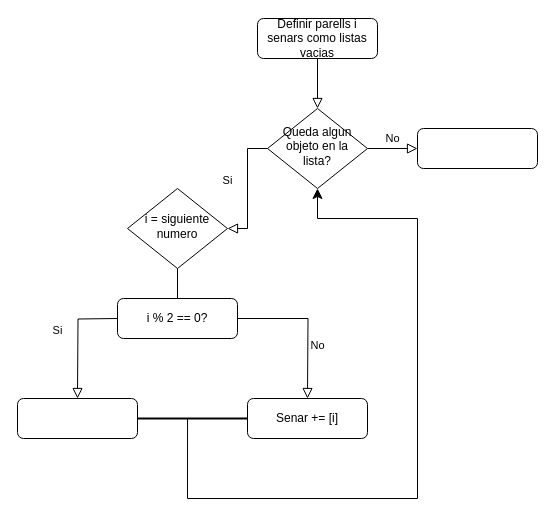
The diagram is 555 pixels wide and 526 high, and some of its shapes have lost their labels. The box of each missing label's shape, as (x1, y1, x2, y2) in pixels:
Parell += [i]: (16, 398, 138, 438)
Print lista de parells y senars: (416, 128, 538, 168)
